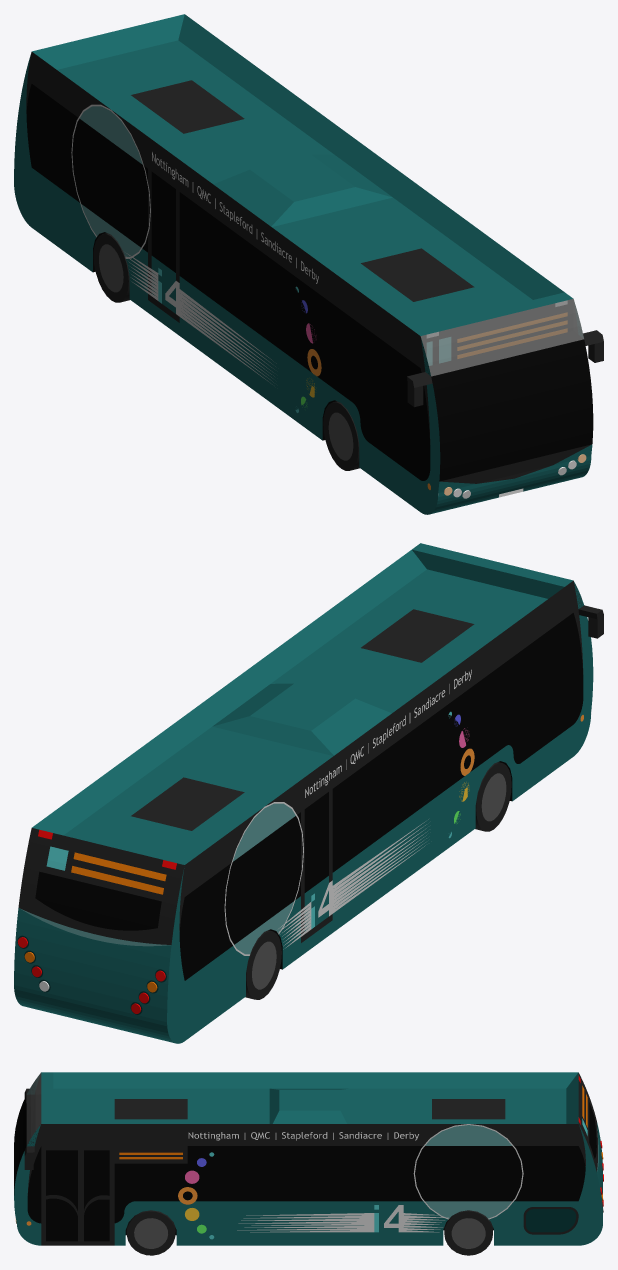
The model's file is temposr.dae.
The picture shows the model from 3 angles, top to bottom: view 1: azimuth 30°, elevation 25°; view 2: azimuth 150°, elevation 25°; view 3: azimuth 270°, elevation 25°; orthographic projection. The views are drawn at different scales.
Visible parts, largest first — view 1: SketchUp (×23); view 2: SketchUp (×25); view 3: SketchUp (×31).
Part boxes in pixels (x1=…): SketchUp (×23): x1=14, y1=14, x2=593, y2=514; SketchUp (×25): x1=14, y1=543, x2=603, y2=1043; SketchUp (×31): x1=14, y1=1072, x2=602, y2=1255.
Bounding box in the file's own units: 122 × 475 × 117.
